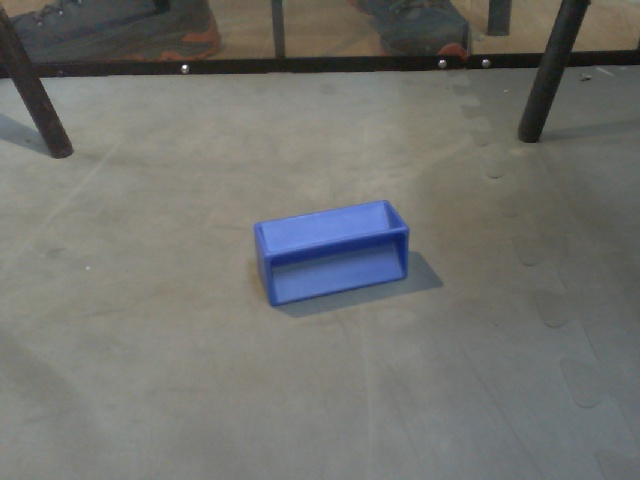BlueSample: (248, 197, 413, 307)
